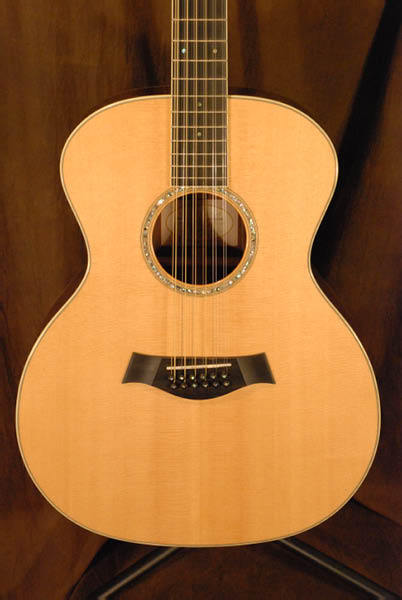guitar: (12, 1, 383, 550)
